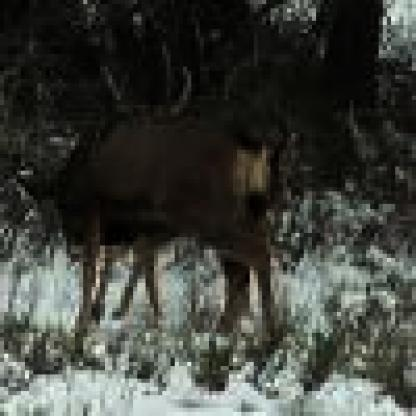Deer: (14, 108, 281, 357)
